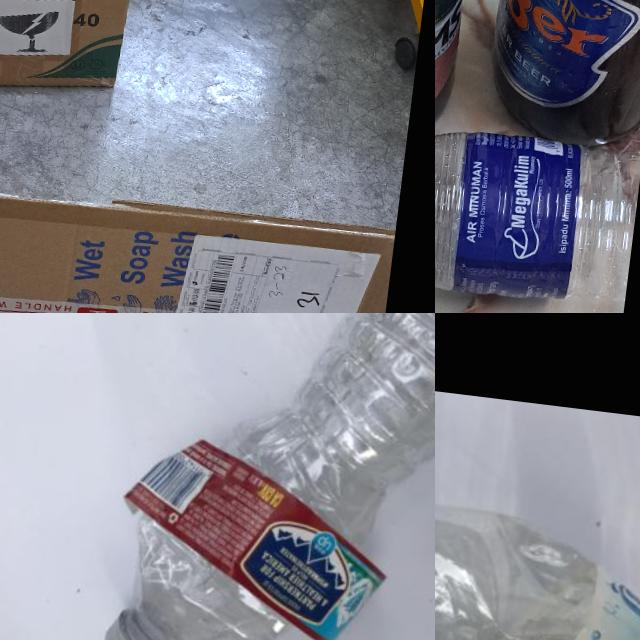garrafa de vidro: (478, 0, 640, 150)
garrafa plástica: (124, 313, 435, 640), (435, 110, 640, 312), (435, 486, 640, 640), (97, 601, 180, 640)
papelão: (0, 171, 394, 313), (0, 0, 145, 105)
